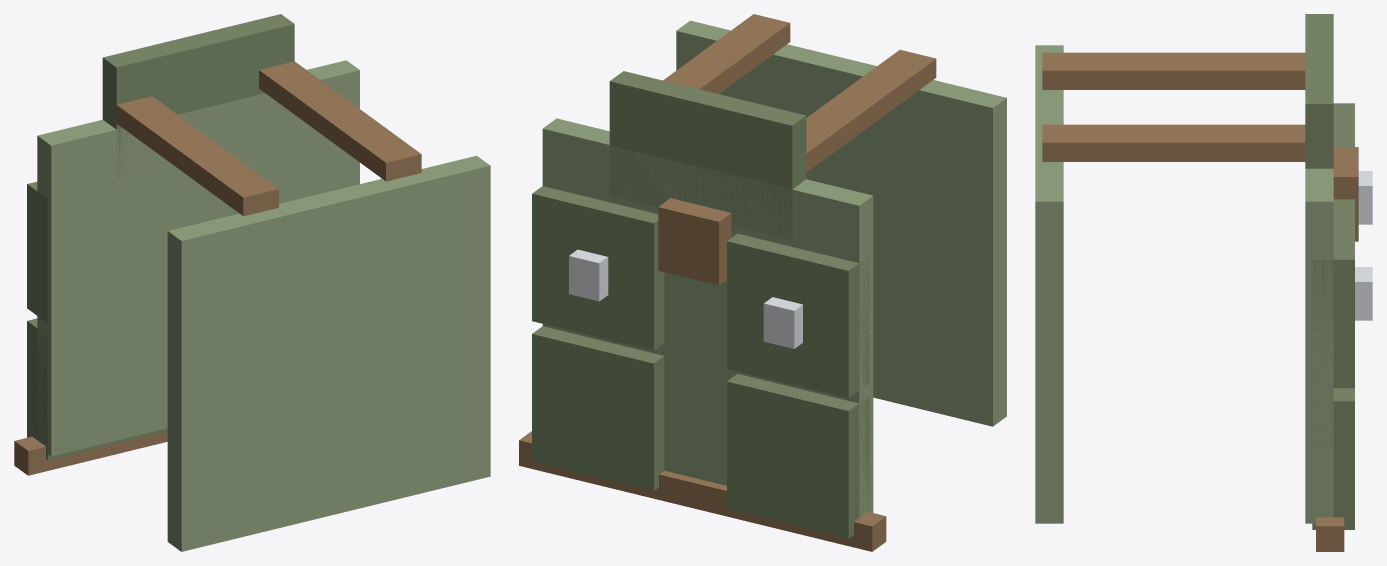
File: campista_tronco.glb
3 views of the same model, side by side, from view 1: azimuth 30°, elevation 25°; view 2: azimuth 150°, elevation 25°; view 3: azimuth 270°, elevation 25° (orthographic). The views are drawn at different scales.
Parts seen in each view (by area): view 1: campista_tronco; view 2: campista_tronco; view 3: campista_tronco.
Boxes of the visible parts, x1,y1,x2,y2 form: campista_tronco: (14, 14, 490, 551); campista_tronco: (519, 14, 1006, 551); campista_tronco: (1035, 14, 1372, 551).
Bounding box in the file's own units: 0.58 × 0.63 × 0.475.
